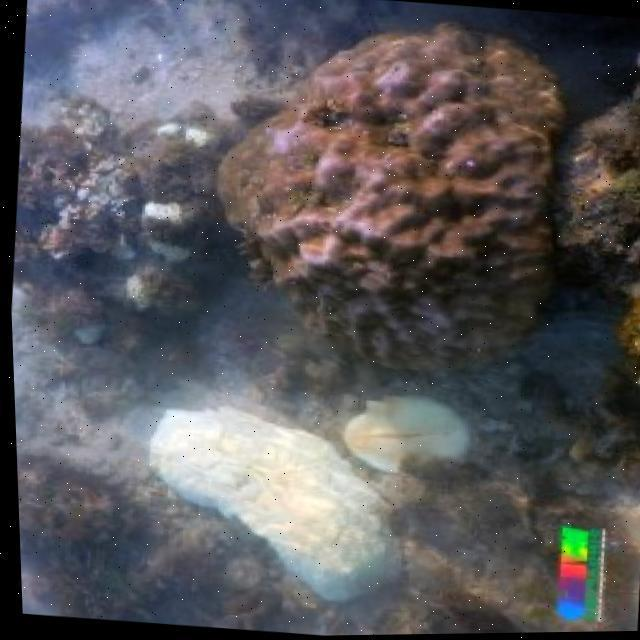Bleached Coral: (145, 361, 420, 604)
